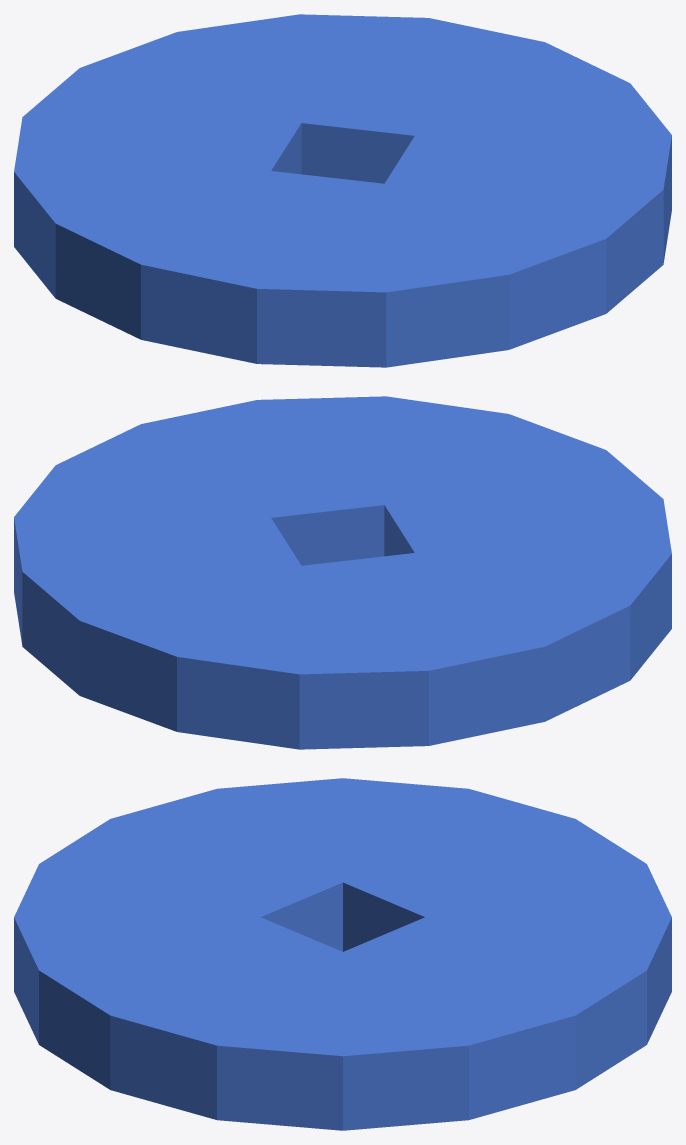
File: Disk.fbx
The picture shows the model from 3 angles, top to bottom: view 1: azimuth 30°, elevation 25°; view 2: azimuth 150°, elevation 25°; view 3: azimuth 270°, elevation 25°; orthographic projection.
Visible parts, largest first — view 1: Circle; view 2: Circle; view 3: Circle.
Part boxes in pixels (left/top/right/bottom): Circle: left=14, top=14, right=671, bottom=367; Circle: left=14, top=396, right=671, bottom=749; Circle: left=14, top=778, right=671, bottom=1130.
Size of the model in its own units: 200 by 25 by 200.
